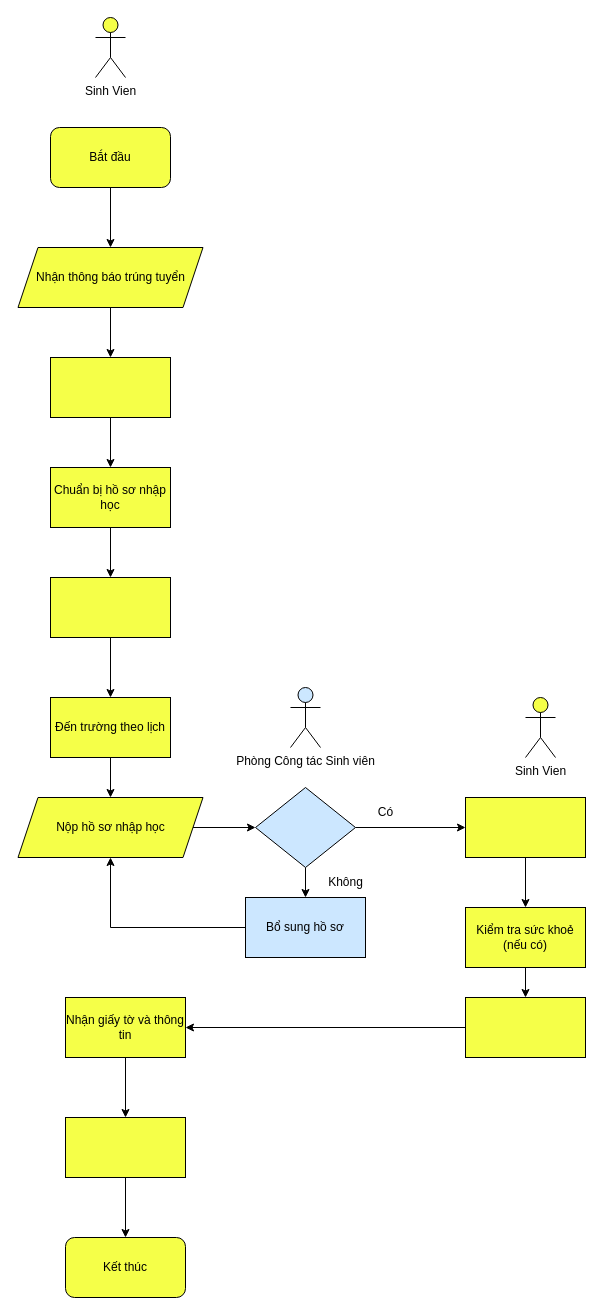
The diagram is 603 pixels wide and 1315 high, and some of its shapes have lost their labels. The centre of each missing label's shape, as x and y in pixels:
Hoàn thành các thủ tục khác: the point at 125,1147
Hồ sơ hợp lệ: the point at 305,827
Nộp các khoản phí: the point at 525,827
Tham gia buổi hướng dẫn: the point at 525,1027
Tìm hiểu và chuẩn bị các khoản phí: the point at 110,607
Xác nhận học tập trực tuyến: the point at 110,387
